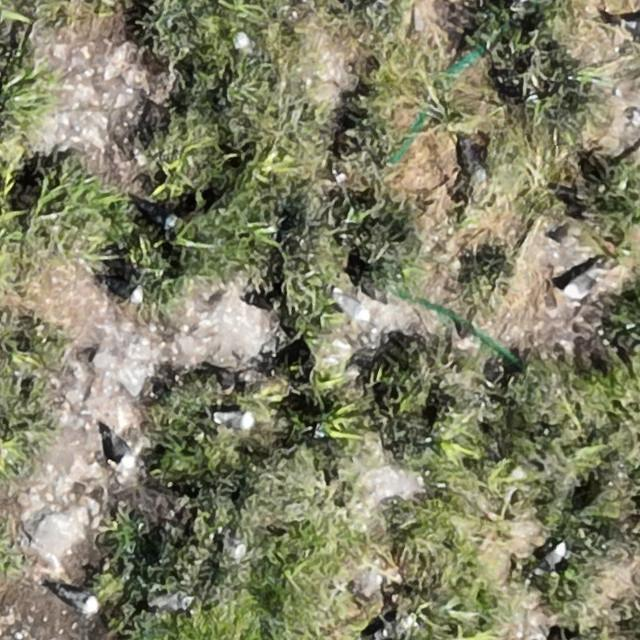umineko: (329, 284, 373, 322), (137, 194, 179, 230), (102, 425, 135, 470), (58, 588, 96, 611), (566, 268, 595, 298), (109, 281, 142, 303), (540, 544, 566, 570), (218, 411, 254, 429), (626, 20, 639, 40)
